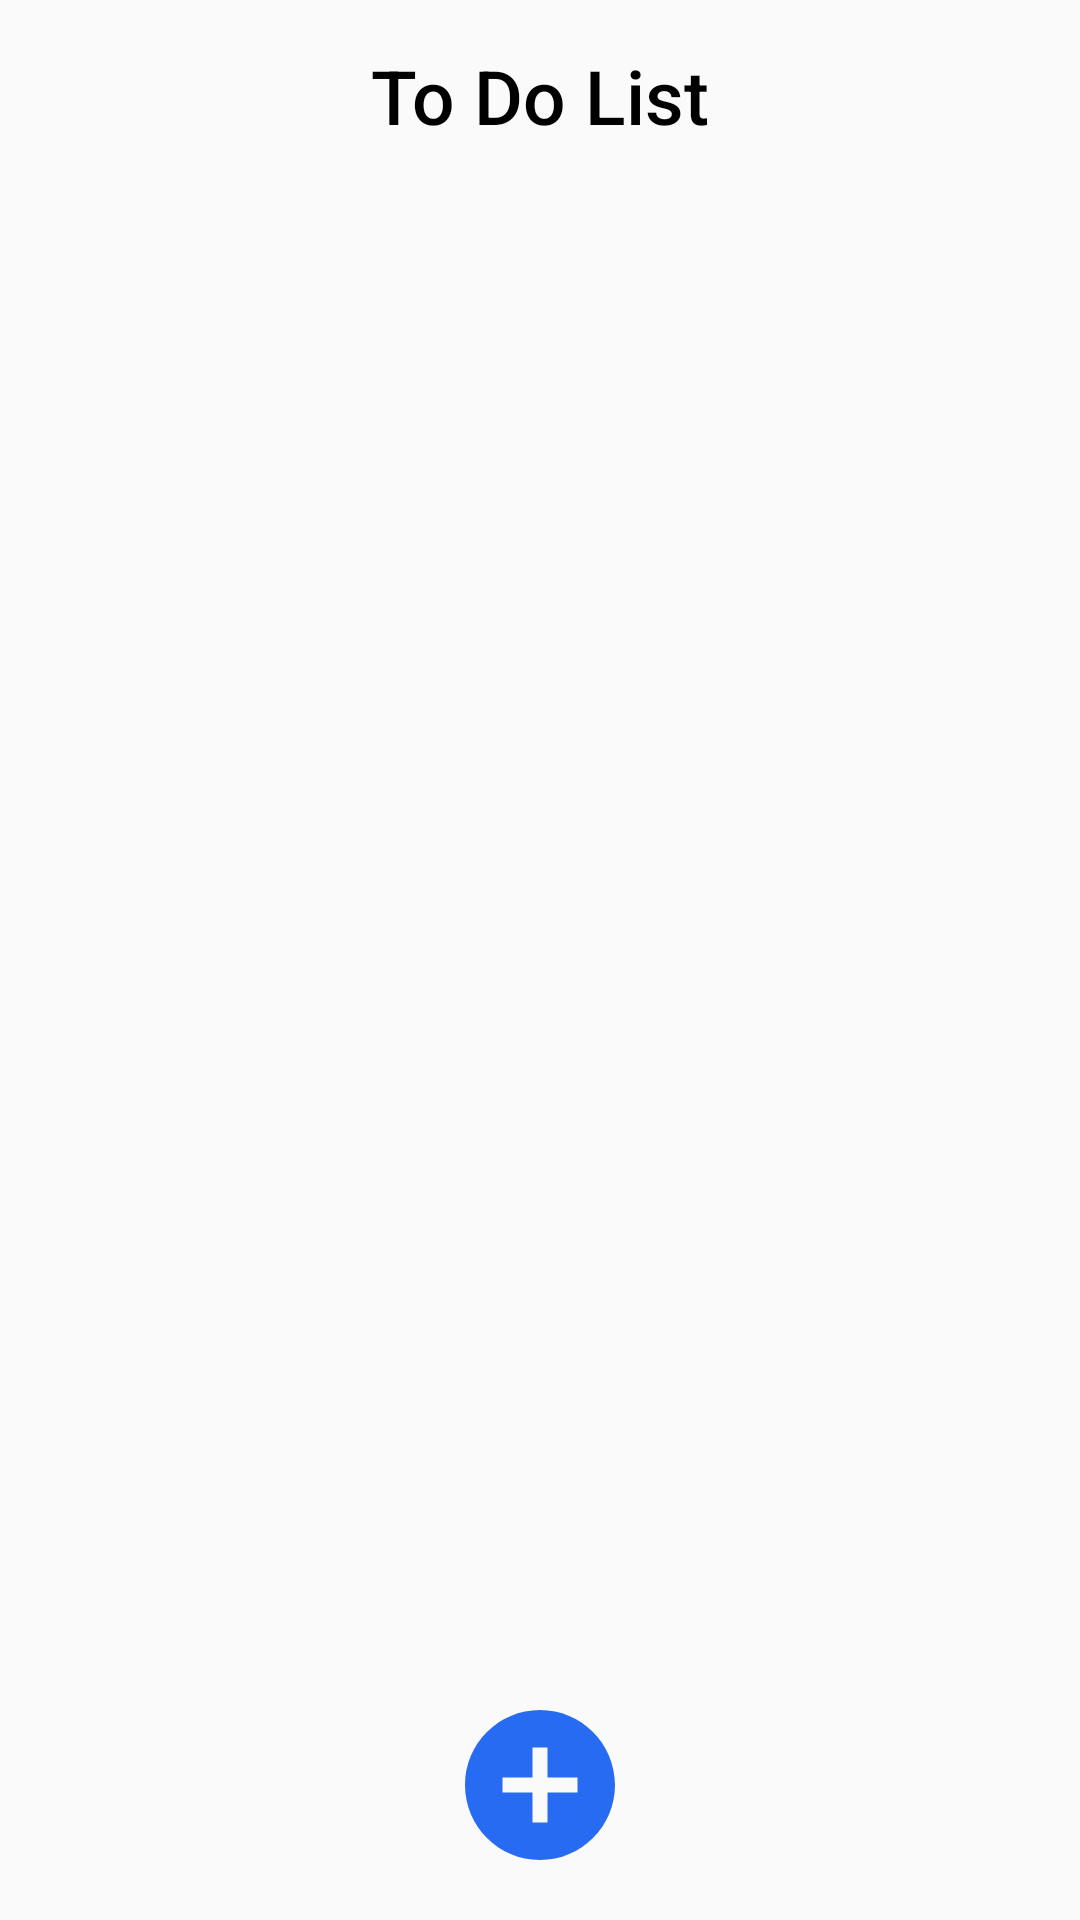

Icon click points for this 1080px x 1920px phone screenshot, format (x,y):
add circle: (540,1785)
